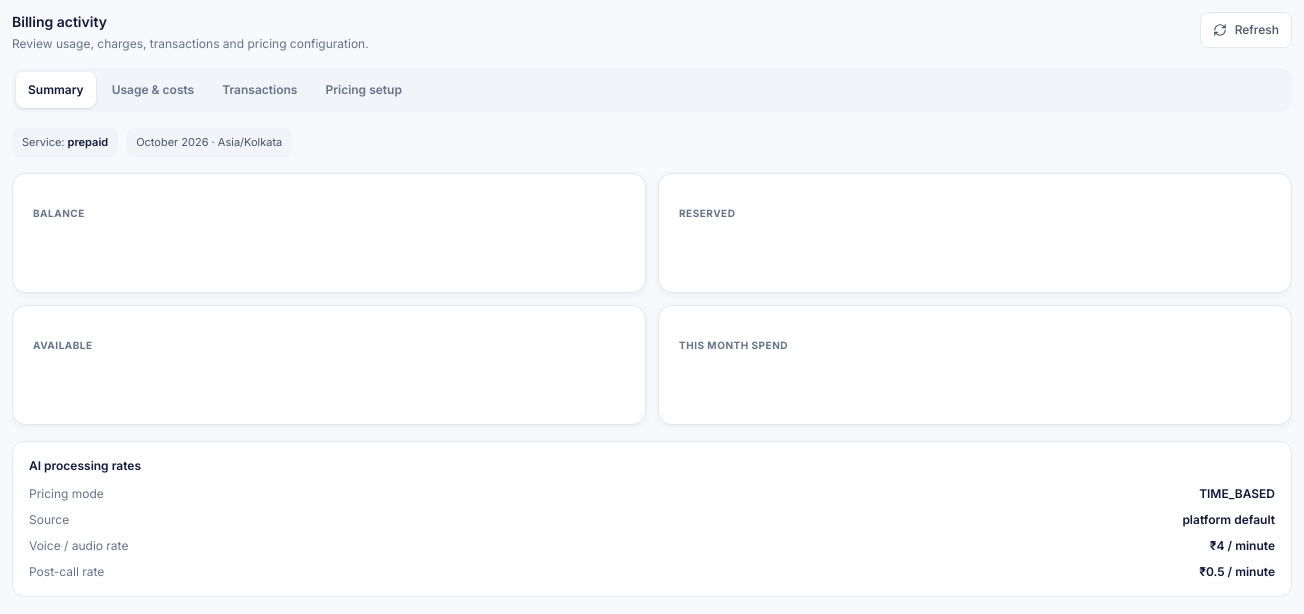
Scenario: Organization billing activity › keeps transactions and pricing configuration discoverable
Click the button "Transactions": click(260, 90) [210,72,309,108]
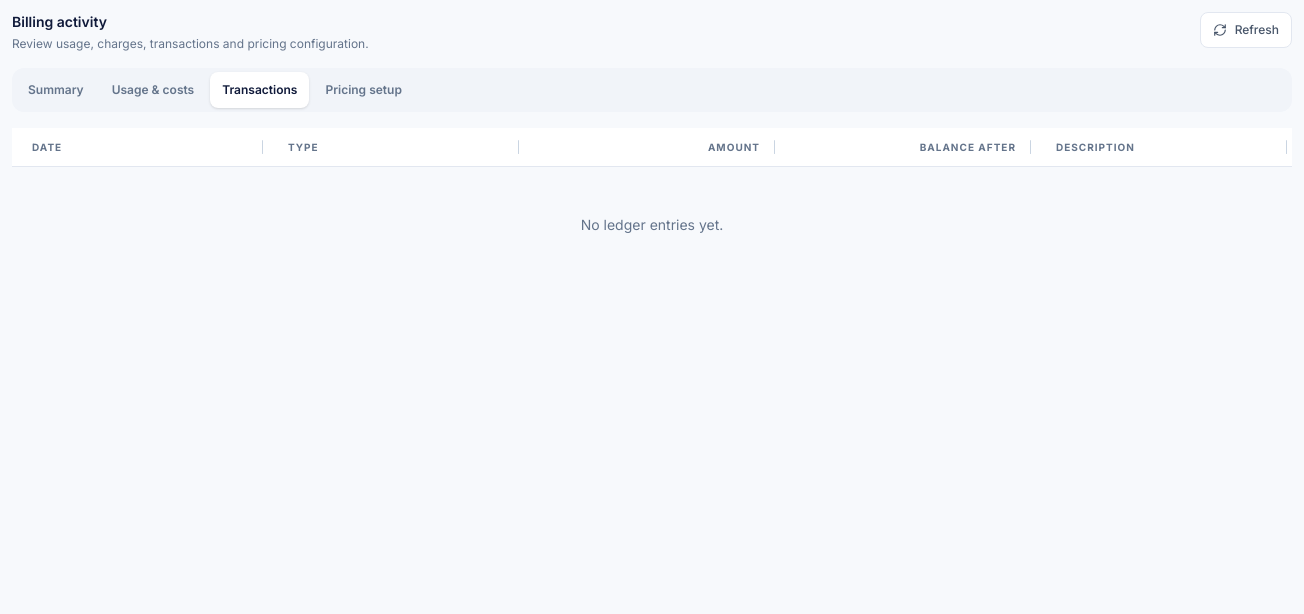
Now the table is shown, box [12,128,1292,283]
Click the button "Pricing setup": click(364, 90) [313,72,414,108]
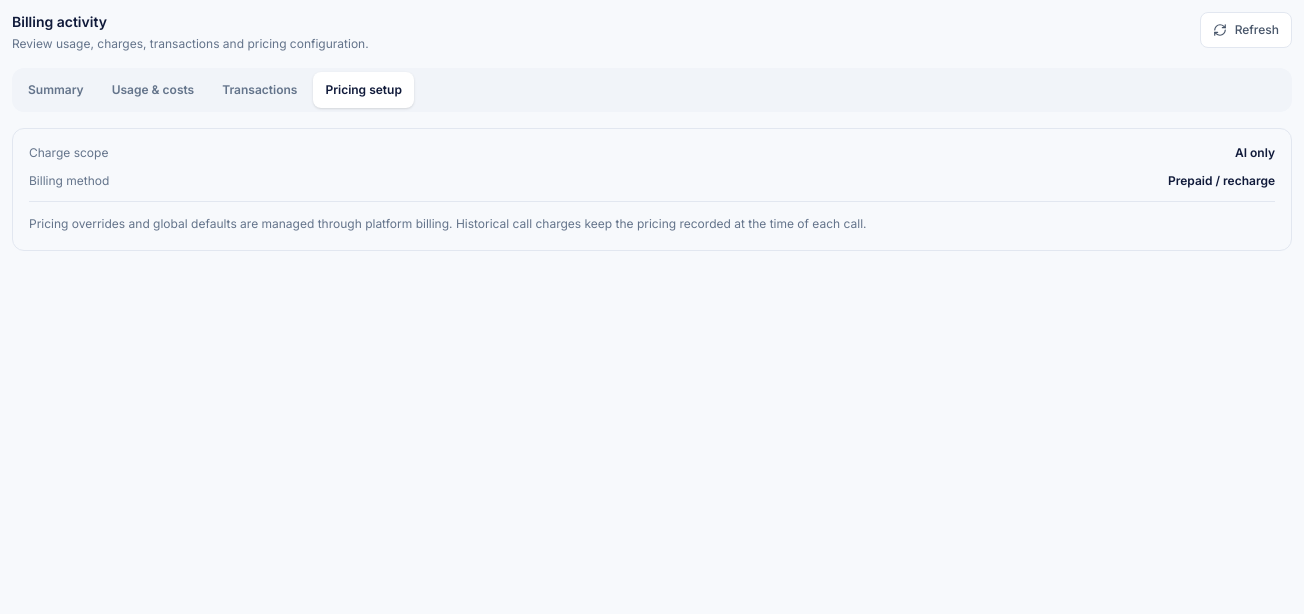
Now the text "Charge scope" is shown, box [29,145,108,161]
Now the text "AI only" is shown, box [1235,145,1275,161]
